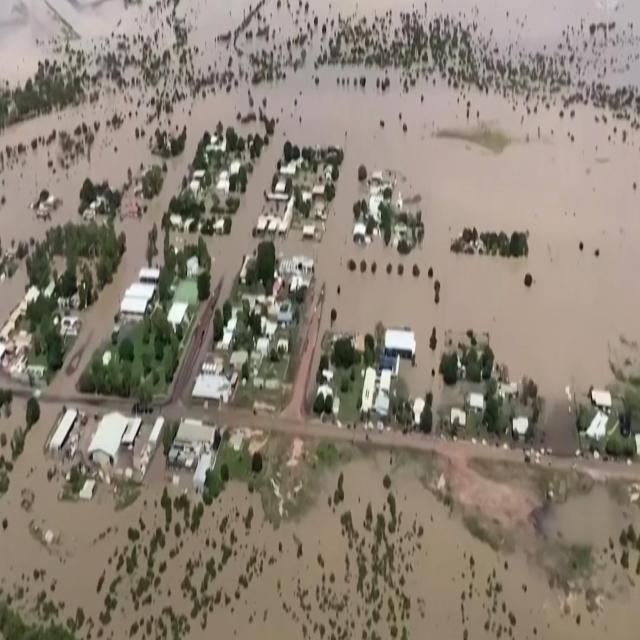flood: (0, 0, 640, 402), (0, 409, 640, 640)
house: (171, 414, 218, 497), (93, 409, 140, 483), (46, 406, 78, 462), (383, 324, 417, 362), (583, 403, 609, 452), (121, 281, 154, 318), (140, 263, 160, 289)
